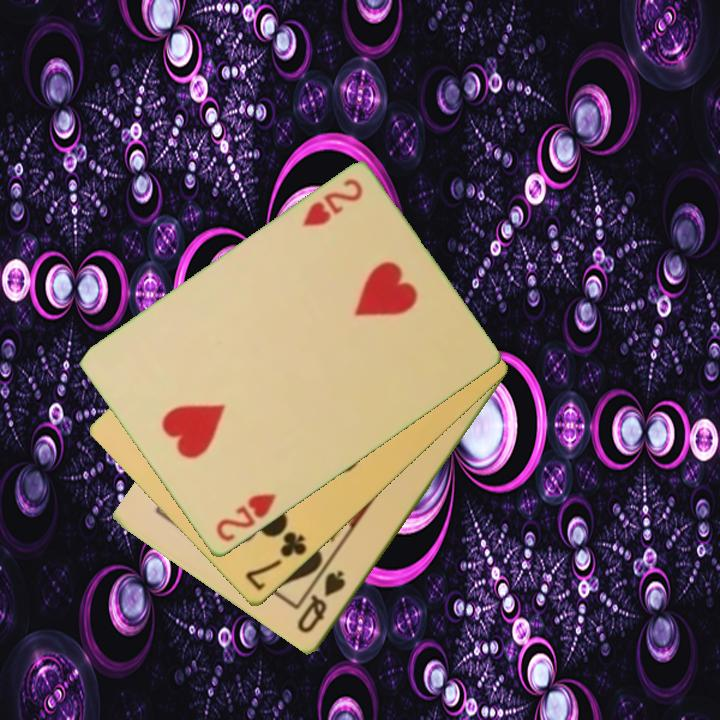2h: (297, 175, 366, 231), (212, 490, 279, 546)
7c: (242, 528, 310, 595)
Qs: (293, 567, 349, 637)
